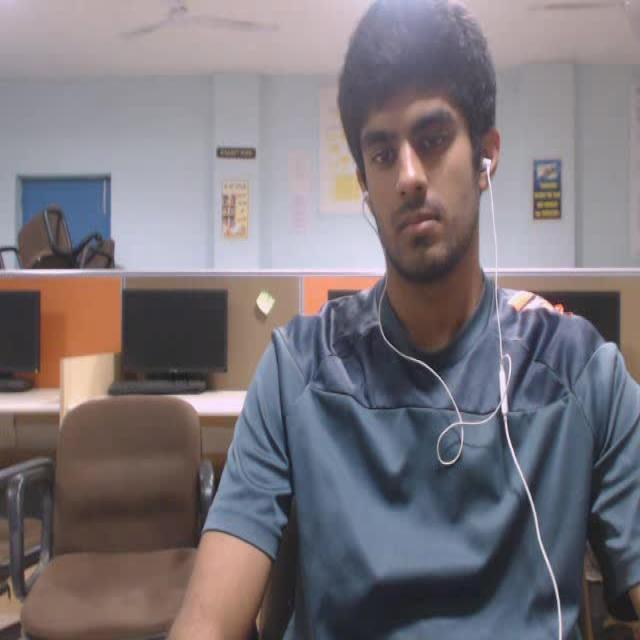Engaged: (272, 0, 530, 293)
